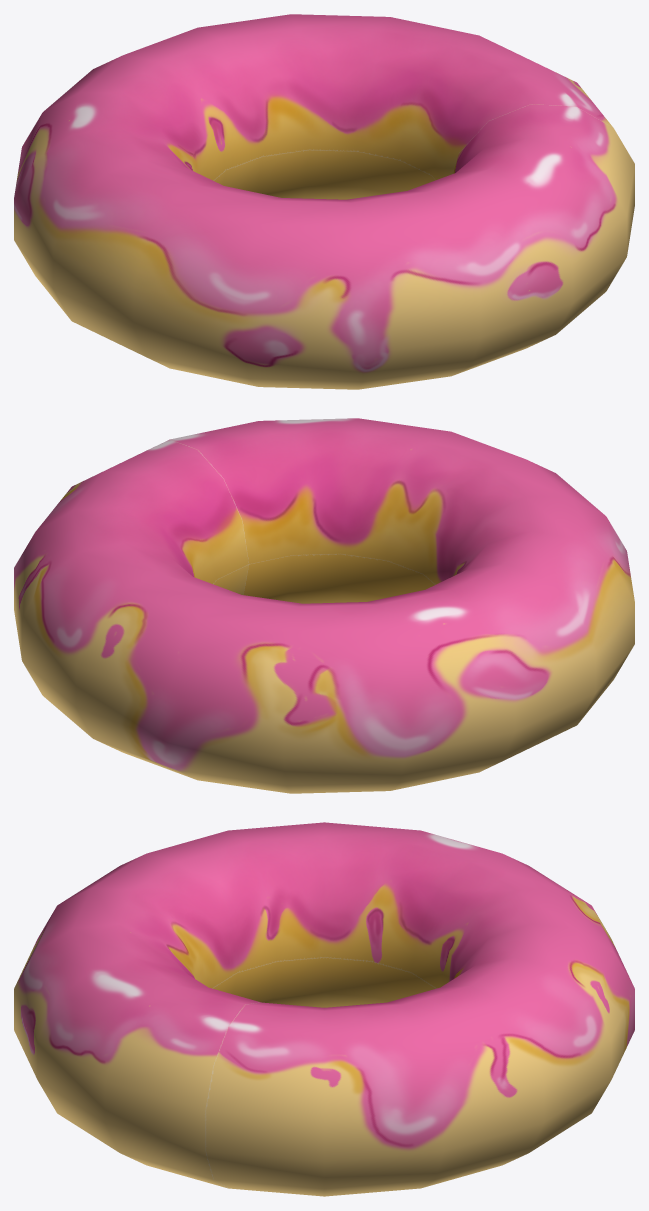
File: donutliampie.fbx
3 renders of one model, top to bottom at view 1: azimuth 30°, elevation 25°; view 2: azimuth 150°, elevation 25°; view 3: azimuth 270°, elevation 25°, orthographic.
Visible parts, largest first — view 1: pTorus1; view 2: pTorus1; view 3: pTorus1.
Part boxes in pixels (x1,y1,x2,y2): pTorus1: (14,14,634,389); pTorus1: (14,418,634,793); pTorus1: (14,822,634,1196).
Size of the model in its own units: 1.79 by 0.5435 by 1.79.
